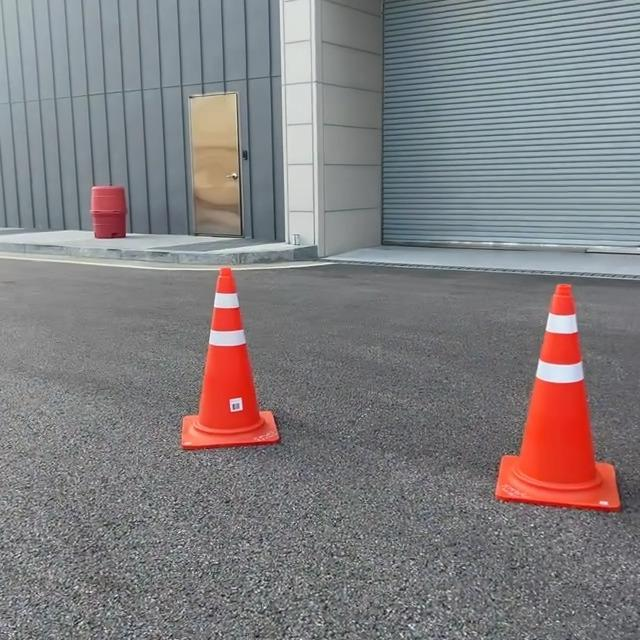fallen_object: (456, 273, 635, 516), (136, 246, 321, 444)
